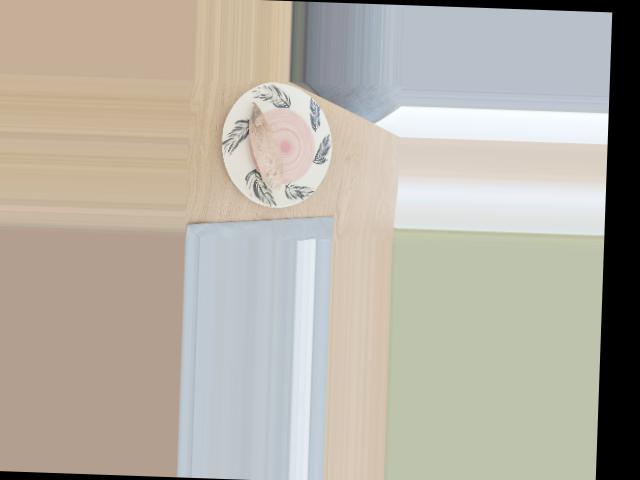sweet_potato: (240, 109, 290, 186)
